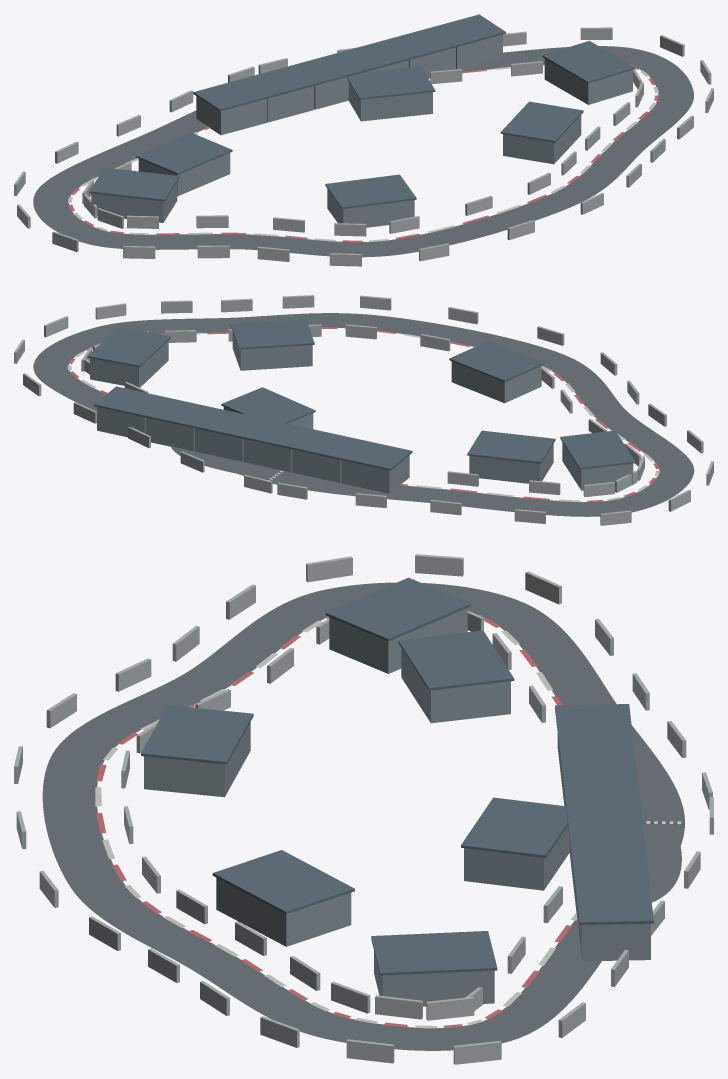
3 views of the same model, one above another, from view 1: azimuth 30°, elevation 25°; view 2: azimuth 150°, elevation 25°; view 3: azimuth 270°, elevation 25° (orthographic). The views are drawn at different scales.
Parts seen in each view (by area): view 1: asphalt, grandstand_roof_5, grandstand_roof_4, grandstand_roof_3, grandstand_roof_1, grandstand_roof_2, grandstand_roof_0, grandstand_1, grandstand_0, pit_building_0, grandstand_2, grandstand_3 (+25 smaller); view 2: asphalt, grandstand_roof_3, grandstand_roof_5, grandstand_roof_2, grandstand_roof_1, grandstand_roof_4, grandstand_3, grandstand_roof_0, grandstand_5, grandstand_2, grandstand_1, pit_building_0 (+31 smaller); view 3: asphalt, grandstand_roof_4, grandstand_roof_2, grandstand_roof_1, grandstand_roof_5, grandstand_roof_3, grandstand_roof_0, grandstand_2, grandstand_5, grandstand_3, grandstand_0, grandstand_4 (+17 smaller).
Boxes of the visible parts, box(x1,y1,x2,y2) form: asphalt: box(33, 46, 693, 257); grandstand_roof_5: box(136, 132, 232, 174); grandstand_roof_4: box(89, 167, 179, 201); grandstand_roof_3: box(325, 174, 416, 209); grandstand_roof_1: box(542, 41, 635, 83); grandstand_roof_2: box(500, 101, 583, 142); grandstand_roof_0: box(347, 66, 435, 99); grandstand_1: box(544, 58, 632, 104); grandstand_0: box(348, 81, 432, 121); pit_building_0: box(196, 96, 267, 135); grandstand_2: box(503, 115, 581, 164); grandstand_3: box(327, 189, 414, 227); asphalt: box(33, 313, 694, 516); grandstand_roof_3: box(449, 341, 543, 382); grandstand_roof_5: box(467, 430, 555, 463); grandstand_roof_2: box(230, 319, 314, 349); grandstand_roof_1: box(87, 326, 170, 367); grandstand_roof_4: box(560, 430, 635, 469); grandstand_3: box(451, 361, 541, 403); grandstand_roof_0: box(221, 387, 315, 423); grandstand_5: box(469, 444, 553, 483); grandstand_2: box(232, 332, 312, 370); grandstand_1: box(90, 340, 168, 387); pit_building_0: box(341, 455, 409, 493); asphalt: box(42, 582, 684, 1050); grandstand_roof_4: box(325, 577, 471, 641); grandstand_roof_2: box(212, 850, 354, 914); grandstand_roof_1: box(371, 931, 497, 975); grandstand_roof_5: box(398, 630, 514, 690); grandstand_roof_3: box(141, 705, 253, 764); grandstand_roof_0: box(461, 797, 567, 857); grandstand_2: box(216, 877, 351, 946); grandstand_5: box(401, 648, 510, 723); grandstand_3: box(144, 722, 250, 797); grandstand_0: box(464, 825, 569, 890); grandstand_4: box(329, 608, 467, 673).
Size of the model in its own units: 67.5 by 2.64 by 40.46.
